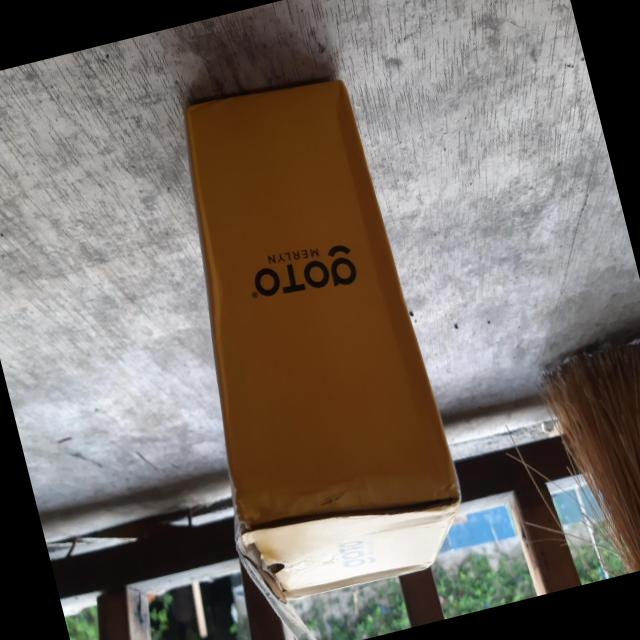Kardus: (130, 62, 480, 618)
